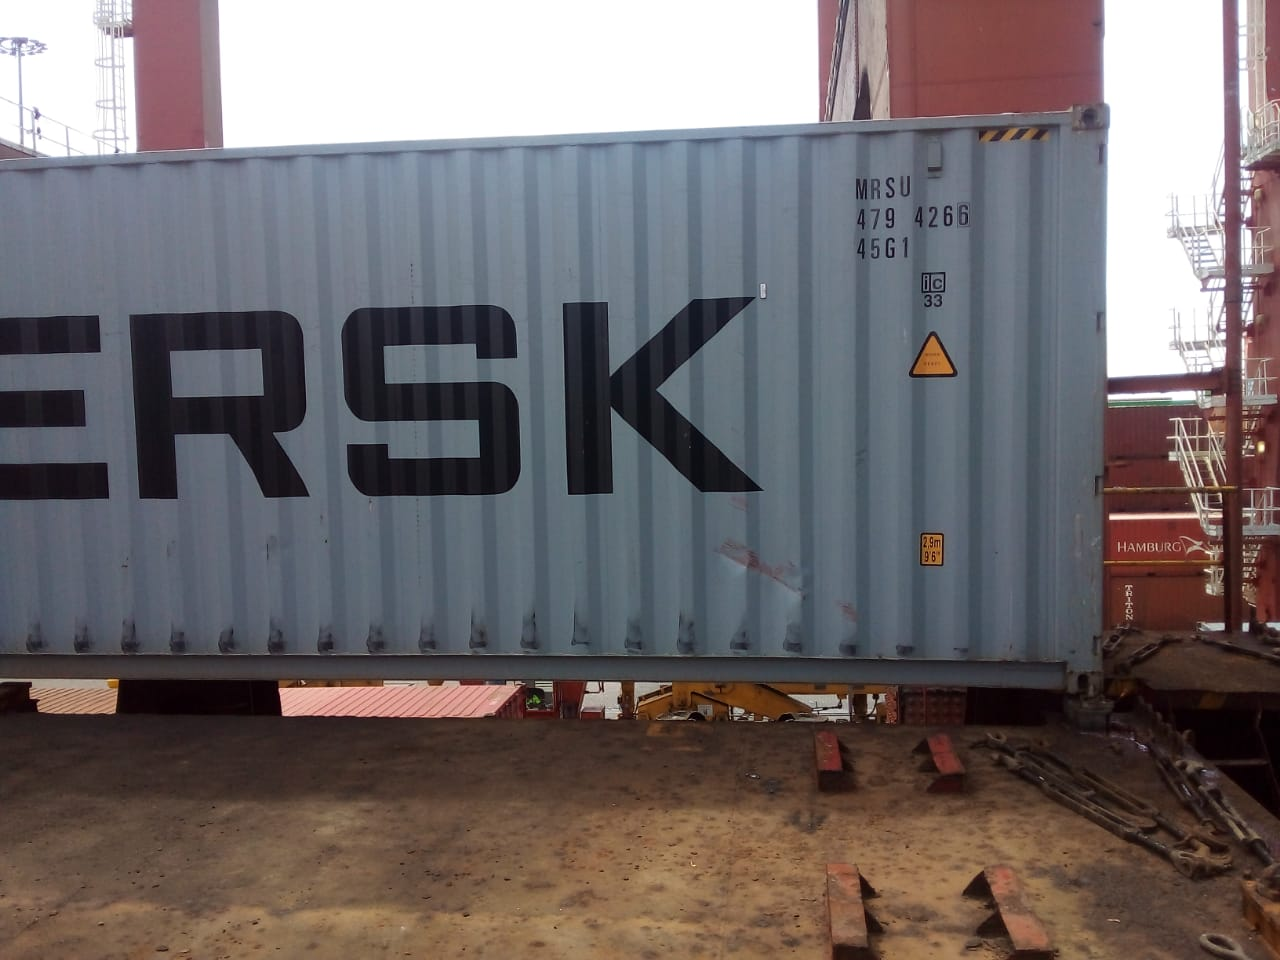dented: (713, 541, 868, 627), (257, 520, 313, 570)
